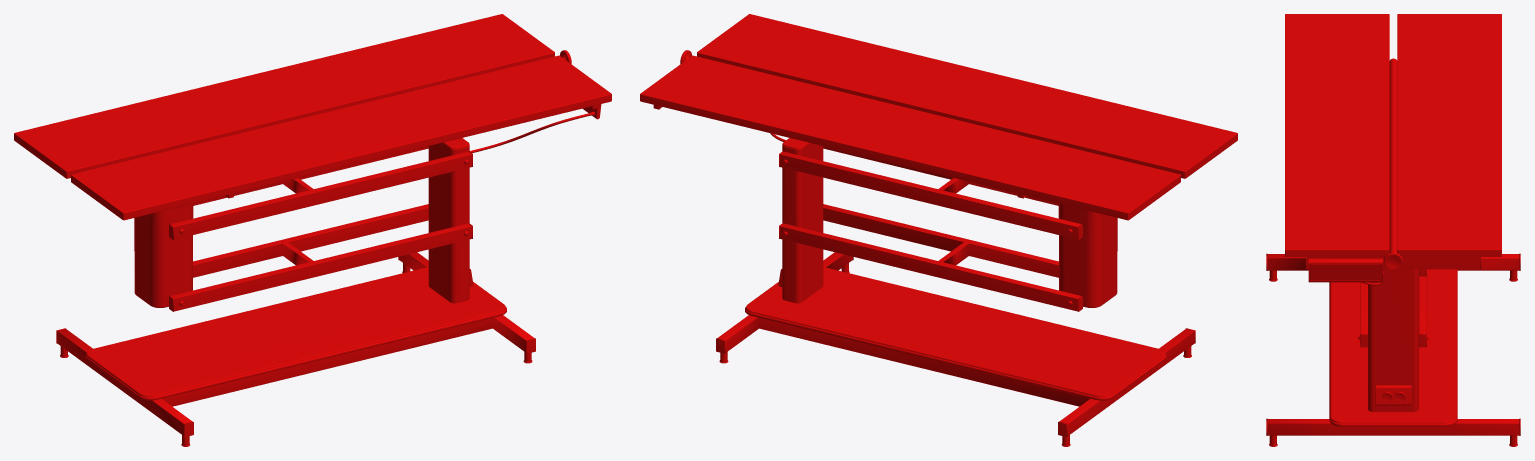
The model's file is Equipment_15.fbx.
3 renders of one model, left to right at view 1: azimuth 30°, elevation 25°; view 2: azimuth 150°, elevation 25°; view 3: azimuth 270°, elevation 25°, orthographic.
Visible parts, largest first — view 1: L:polySurface834; view 2: L:polySurface834; view 3: L:polySurface834.
Boxes of the visible parts, <box> form: L:polySurface834: <box>14,14,611,446</box>; L:polySurface834: <box>640,14,1237,446</box>; L:polySurface834: <box>1266,14,1520,446</box>.
Size of the model in its own units: 227 by 106 by 102.
